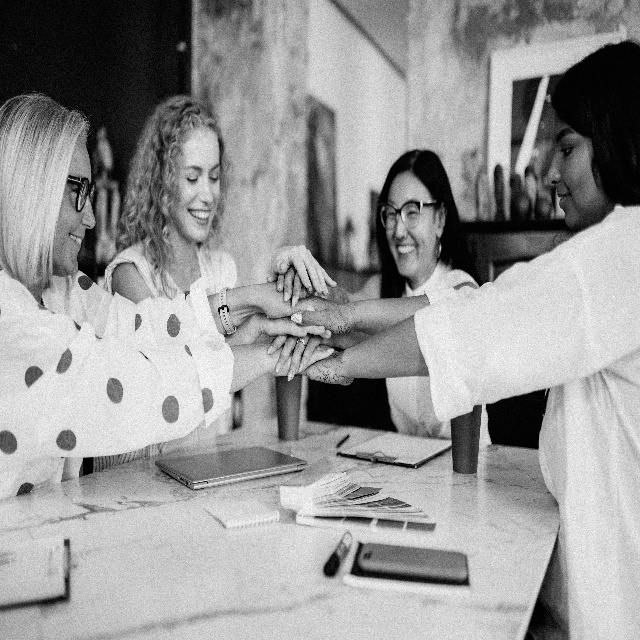Gafas: (378, 199, 440, 232), (67, 172, 93, 214)
Sin_guantes: (271, 241, 337, 297), (268, 337, 320, 384), (293, 295, 350, 334), (262, 313, 333, 341), (266, 269, 303, 308), (307, 343, 334, 372)
